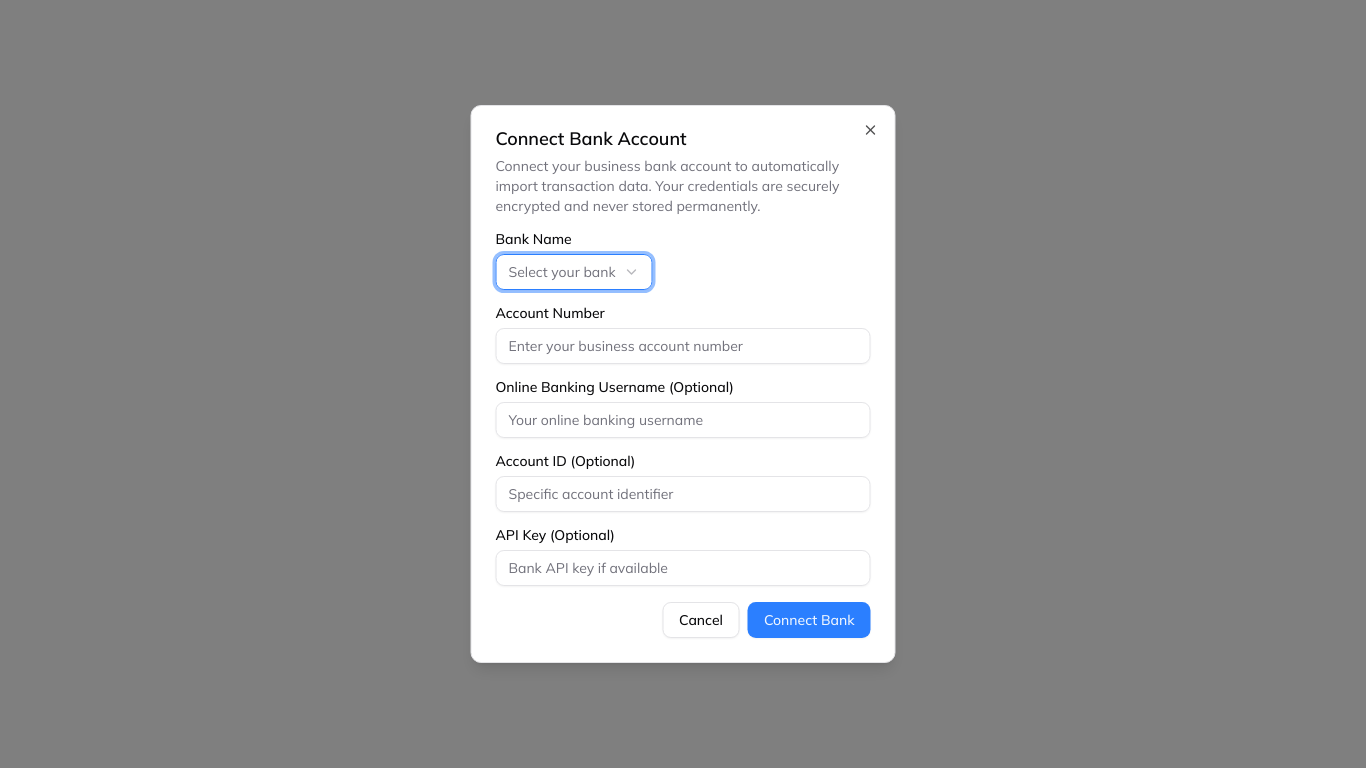
Scenario: BankConnectionModal › validates required fields
Click the button "Connect Bank": {"x": 809, "y": 620} [748,602,870,638]
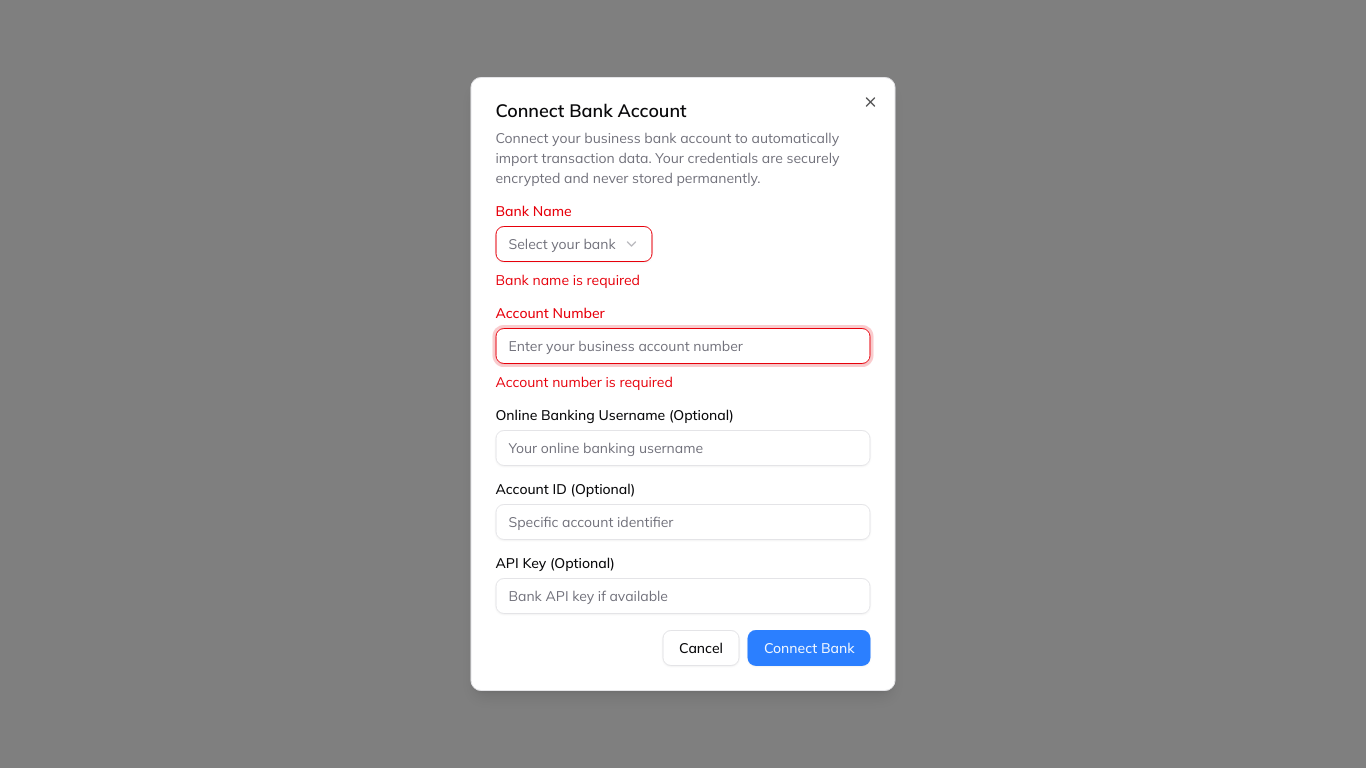
Result: the text "Bank name is required" is shown at [496,271,640,289]
Result: the text "Account number is required" is shown at [496,373,673,391]
